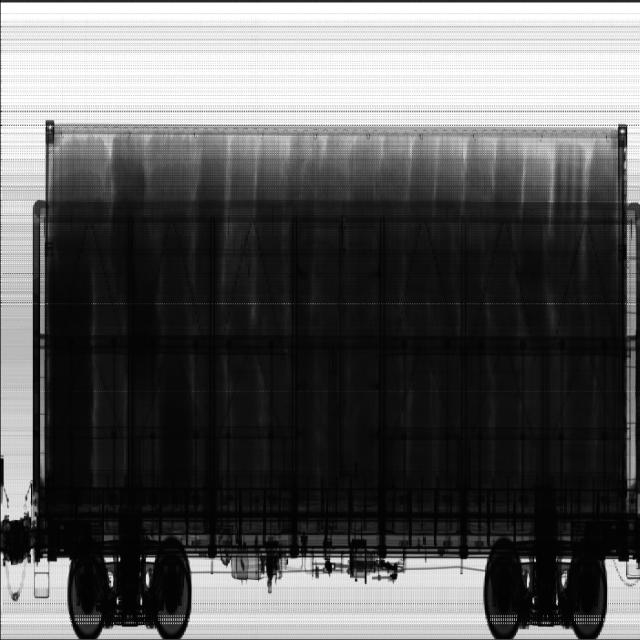clothes: (45, 136, 619, 507)
